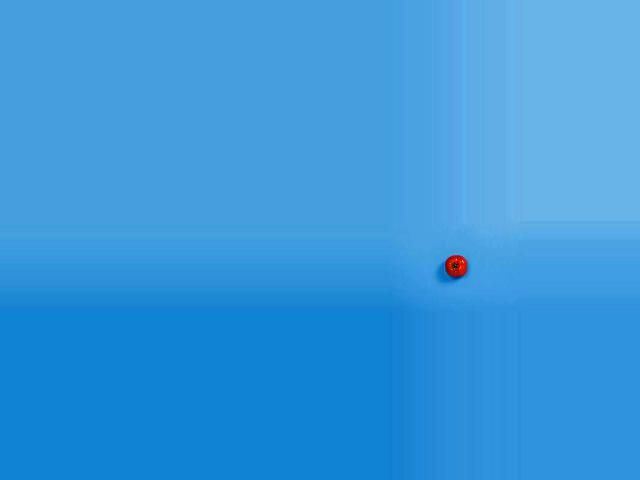tomato: (444, 255, 467, 277)
